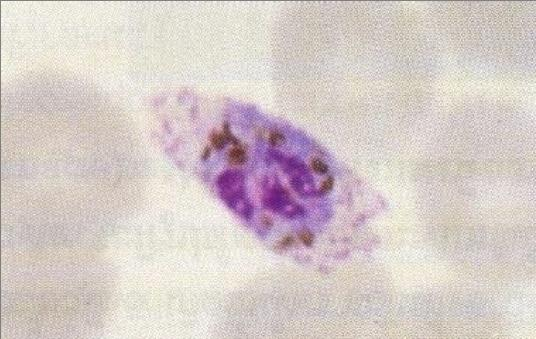Infected: (143, 64, 388, 252)
Uninfected: (387, 90, 536, 272), (0, 54, 126, 241), (104, 199, 266, 339)
